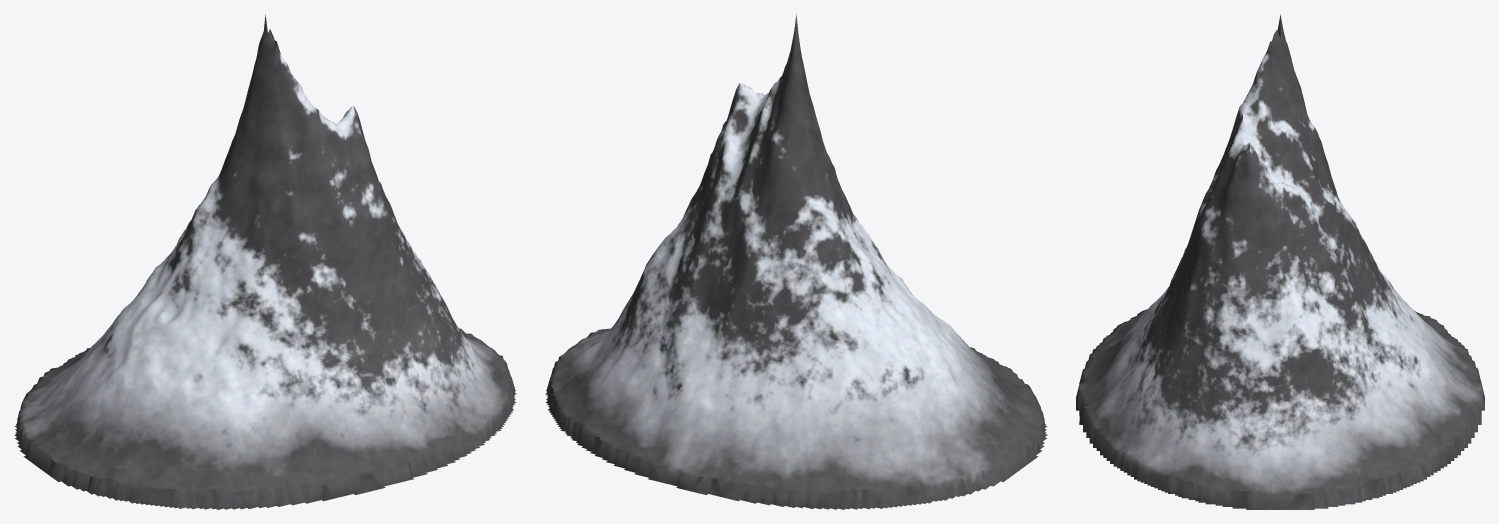
The model's file is snow_mountain.glb.
3 renders of one model, left to right at view 1: azimuth 30°, elevation 25°; view 2: azimuth 150°, elevation 25°; view 3: azimuth 270°, elevation 25°, orthographic. The views are drawn at different scales.
Visible parts, largest first — view 1: mountain; view 2: mountain; view 3: mountain.
Boxes of the visible parts, x1=… form: mountain: x1=14, y1=14, x2=516, y2=509; mountain: x1=545, y1=14, x2=1047, y2=509; mountain: x1=1076, y1=14, x2=1484, y2=509.
Size of the model in its own units: 32.04 by 27.3 by 25.98.
1 material, 1 textured.
